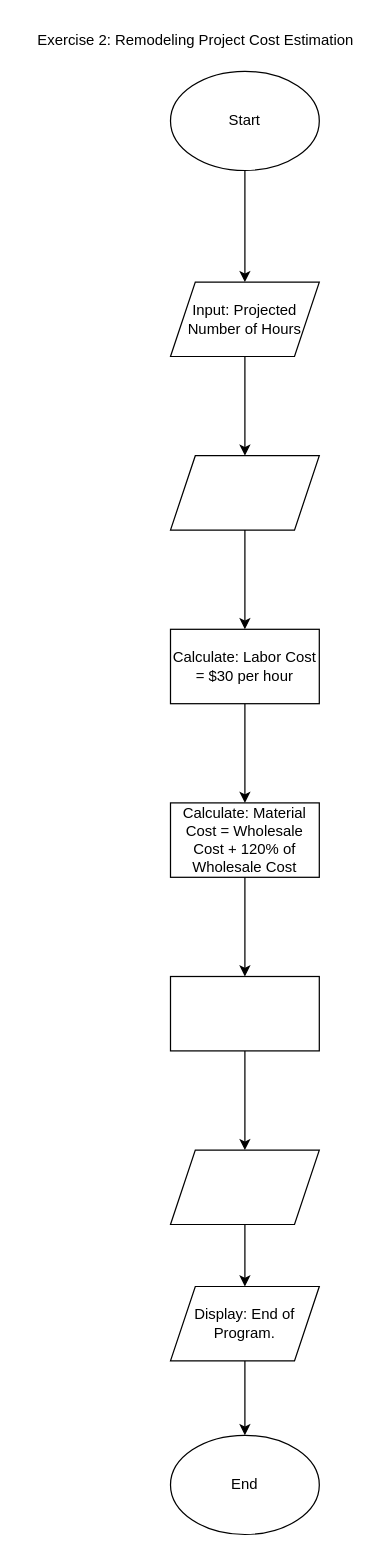
Image size: 389x1556. Some labels were removed from this diagram. The box of each missing label's shape, as (x1, y1, x2, y2) in pixels:
Calculate: Total Project Cost = Labor Cost + Material Cost: (169, 975, 319, 1051)
Input: Wholesale Cost of Materials: (169, 454, 319, 530)
Output: Total Project Cost: (169, 1149, 319, 1224)
